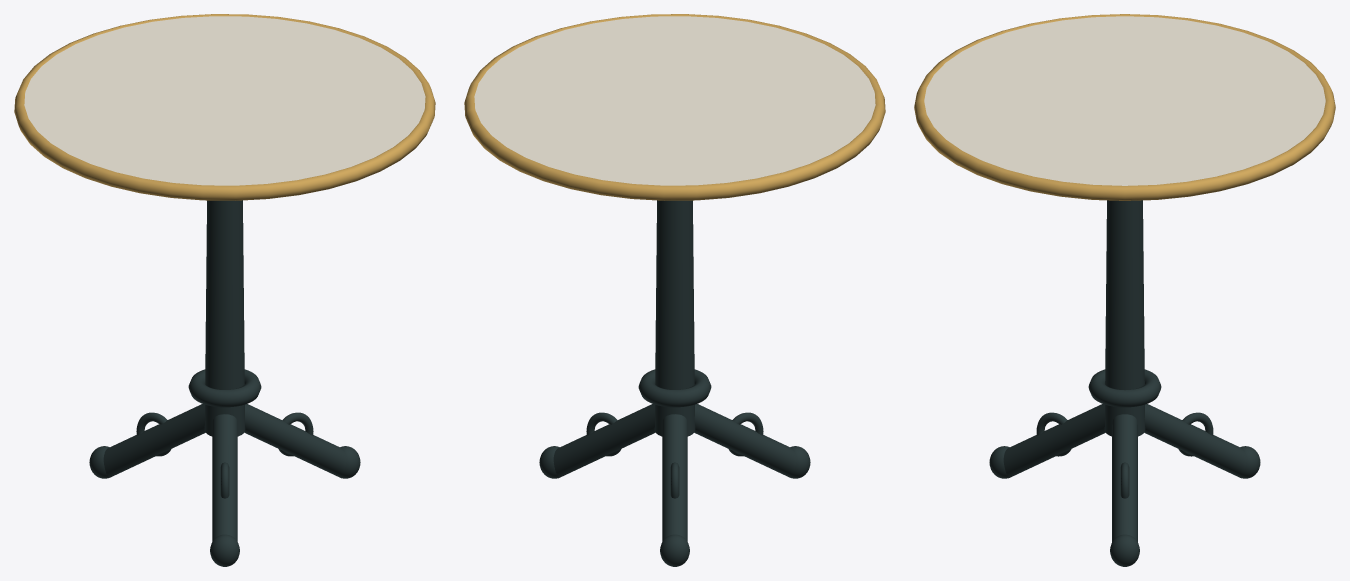
File: wp-table-de-bistrot.glb
3 renders of one model, left to right at view 1: azimuth 30°, elevation 25°; view 2: azimuth 150°, elevation 25°; view 3: azimuth 270°, elevation 25°, orthographic.
Parts seen in each view (by area): view 1: wp-table-de-bistrot; view 2: wp-table-de-bistrot; view 3: wp-table-de-bistrot.
Part boxes in pixels (x1,y1,x2,y2): wp-table-de-bistrot: [14, 14, 435, 566]; wp-table-de-bistrot: [464, 14, 885, 566]; wp-table-de-bistrot: [914, 14, 1335, 566].
Size of the model in its own units: 0.7 by 0.7452 by 0.7.
